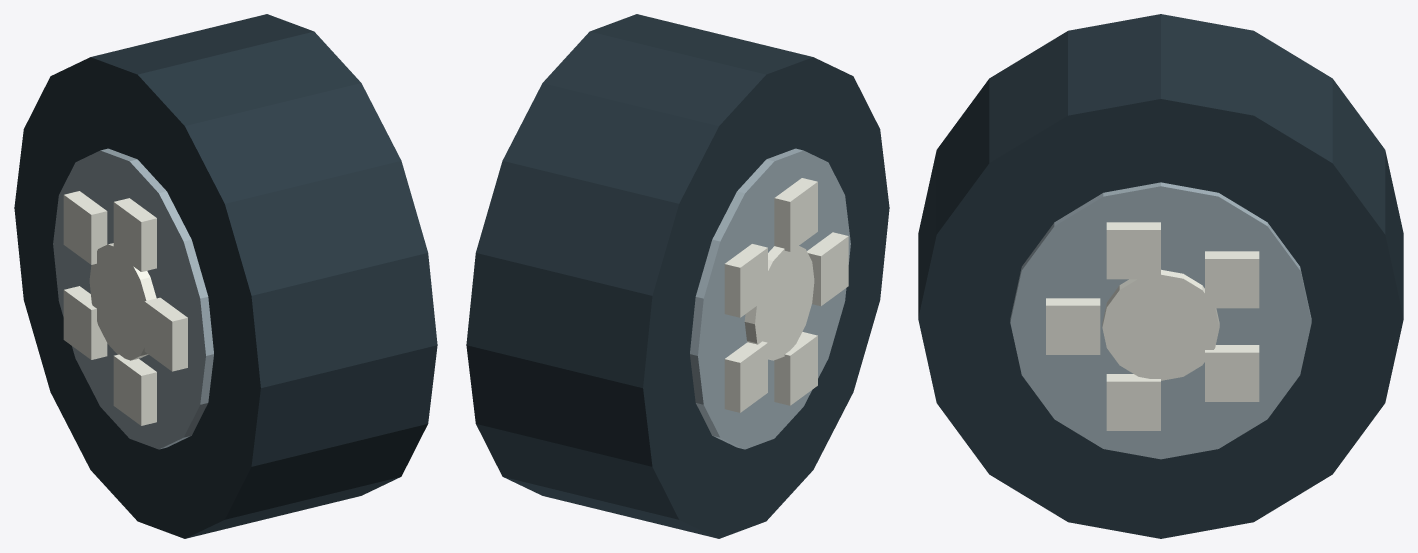
The model's file is pulse-wheel-v1.glb.
3 views of the same model, side by side, from view 1: azimuth 30°, elevation 25°; view 2: azimuth 150°, elevation 25°; view 3: azimuth 270°, elevation 25° (orthographic).
Parts seen in each view (by area): view 1: Tire, Rim-1, Hub-1; view 2: Tire, Rim-1, Hub-1; view 3: Tire, Rim-1, Hub-1.
Part boxes in pixels (x1,y1,x2,y2): Tire: (14, 14, 437, 538); Rim-1: (53, 148, 213, 449); Hub-1: (63, 191, 187, 425); Tire: (466, 14, 889, 538); Rim-1: (690, 148, 850, 449); Hub-1: (724, 178, 848, 412); Tire: (918, 14, 1403, 538); Rim-1: (1010, 182, 1311, 459); Hub-1: (1046, 222, 1259, 430).
Bounding box in the file's own units: 0.305 × 0.58 × 0.58.
